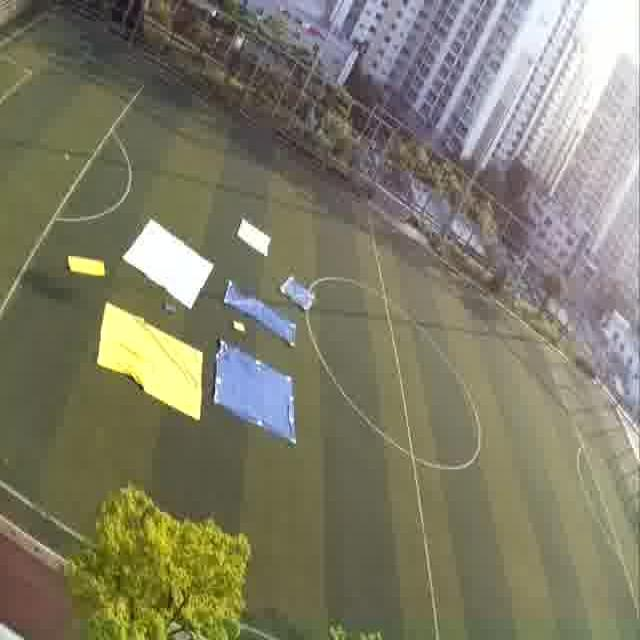danger: (218, 354, 290, 427), (222, 281, 262, 317), (281, 278, 315, 314)
safety: (126, 225, 208, 295), (236, 217, 283, 262)
warning: (96, 314, 206, 412), (68, 255, 111, 276)
